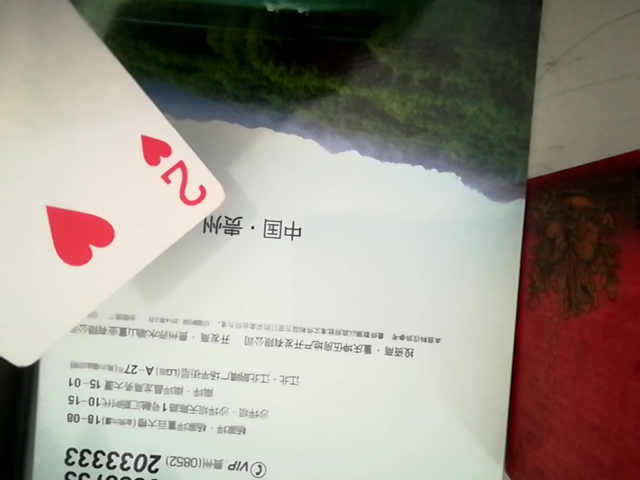hx 2: (0, 0, 229, 377)
